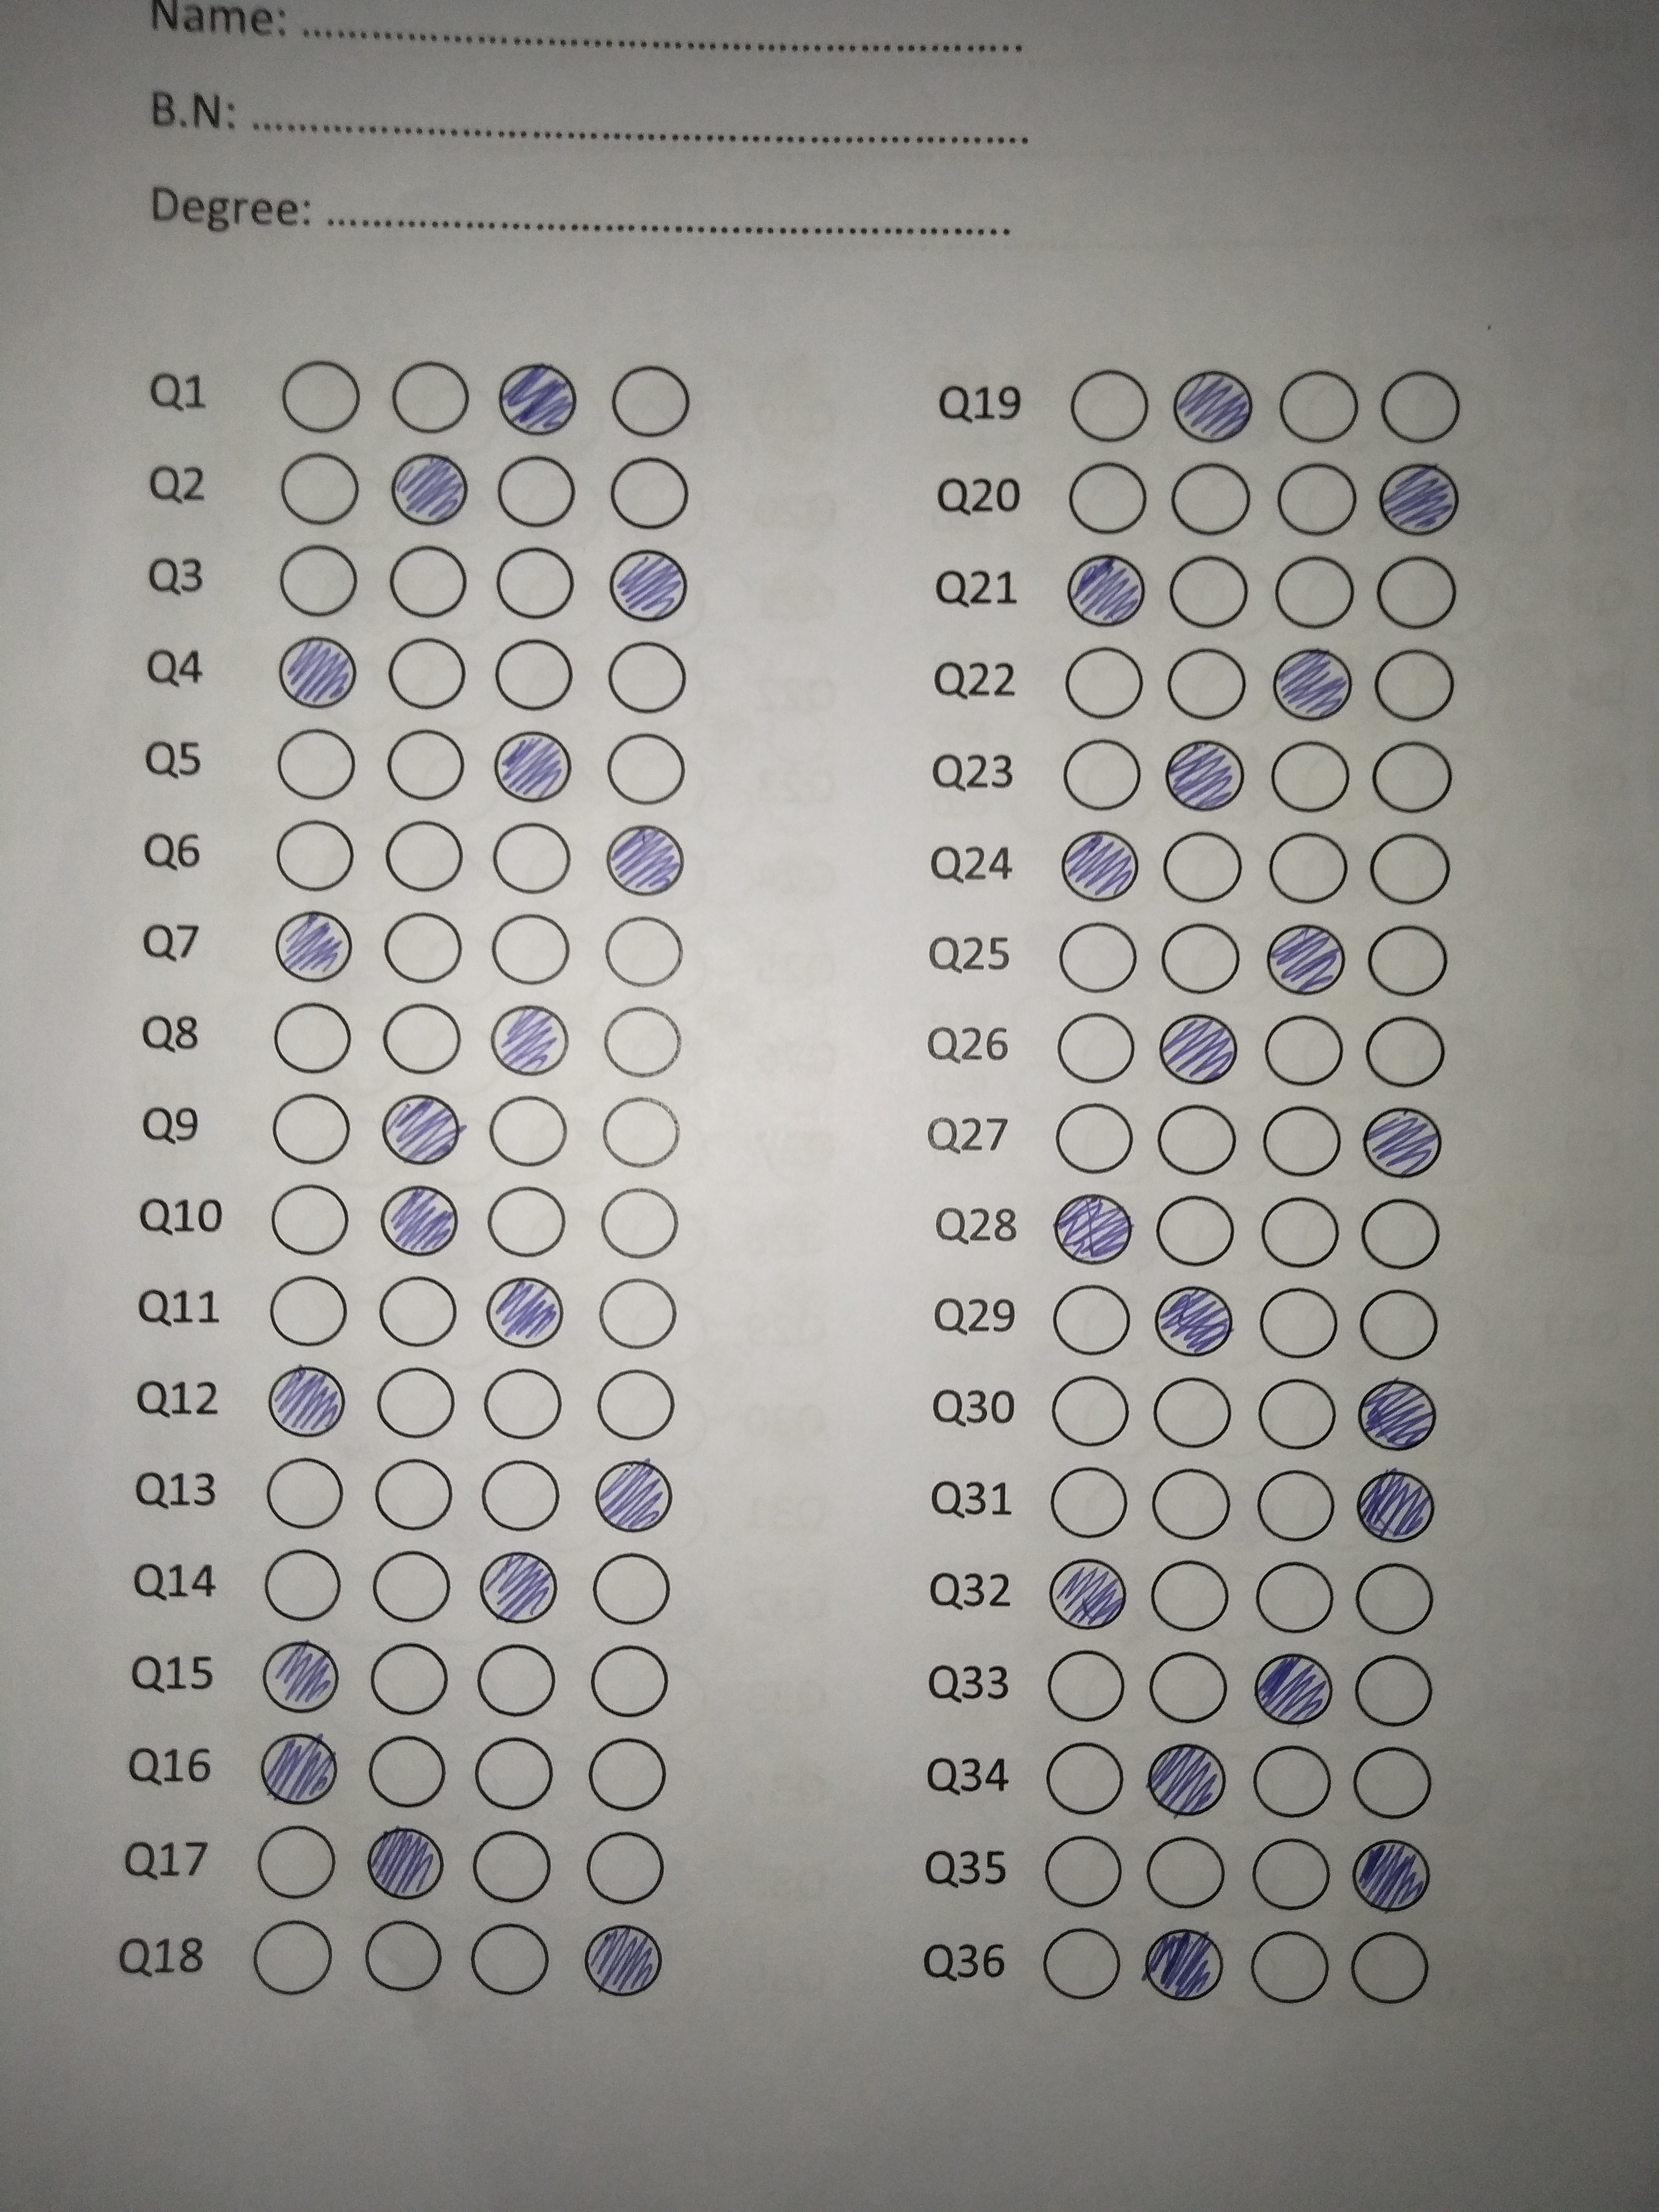not-c: (354, 1909, 458, 2013), (232, 1912, 349, 2005), (1028, 1921, 1141, 2013), (254, 998, 368, 1085), (1361, 549, 1464, 644), (599, 355, 704, 448), (1032, 1648, 1140, 1737), (1342, 1735, 1443, 1829), (481, 806, 584, 899), (592, 451, 704, 535), (352, 1723, 451, 1815), (1241, 1738, 1342, 1829), (261, 540, 364, 629), (1033, 1737, 1138, 1824), (1054, 643, 1159, 730), (369, 899, 465, 993), (1258, 1097, 1358, 1188), (261, 448, 371, 529), (1232, 1923, 1335, 2010), (1140, 1649, 1244, 1735), (1248, 1831, 1345, 1921), (598, 634, 697, 723), (1159, 552, 1260, 639), (1371, 644, 1466, 737), (1262, 554, 1358, 644), (1246, 1191, 1349, 1275), (586, 1635, 680, 1726), (368, 1360, 465, 1447), (580, 1737, 678, 1824), (1035, 1372, 1133, 1460), (1140, 1829, 1239, 1914), (1361, 923, 1460, 1008), (1159, 648, 1258, 733), (1253, 1014, 1361, 1092), (457, 1919, 558, 2003), (1361, 824, 1462, 907), (1058, 364, 1159, 448), (256, 1087, 359, 1169), (1054, 737, 1159, 817), (277, 354, 371, 442), (596, 998, 694, 1083), (483, 542, 584, 624), (235, 1824, 345, 1898), (253, 1454, 357, 1533), (1134, 1559, 1239, 1637), (1166, 456, 1260, 543), (1269, 455, 1363, 542), (598, 732, 697, 813), (1349, 1923, 1438, 2013), (483, 907, 575, 995), (1378, 361, 1466, 453), (1244, 1559, 1338, 1644), (378, 540, 474, 624), (486, 1089, 582, 1172), (465, 1642, 563, 1724), (1253, 730, 1351, 812), (362, 1278, 469, 1353), (469, 1735, 558, 1824), (1049, 1005, 1141, 1090), (1037, 1465, 1133, 1547), (382, 723, 469, 812), (261, 1543, 349, 1632), (267, 719, 357, 805), (1349, 1557, 1439, 1642), (488, 448, 580, 531), (596, 909, 688, 993), (586, 1547, 680, 1629), (483, 634, 575, 716), (1159, 826, 1251, 907), (1267, 369, 1364, 446), (594, 1359, 681, 1444), (469, 1822, 556, 1907), (1037, 1831, 1127, 1912), (1352, 1653, 1443, 1735), (592, 1273, 685, 1353), (380, 636, 474, 714), (267, 815, 361, 894), (1061, 458, 1155, 536), (368, 1460, 464, 1536), (1140, 1467, 1236, 1543), (1040, 1285, 1138, 1360), (1258, 831, 1358, 904), (375, 817, 471, 892), (387, 355, 472, 439), (1157, 927, 1256, 998), (366, 1547, 458, 1623), (594, 1097, 688, 1172), (1154, 1104, 1248, 1179), (1051, 923, 1148, 995), (1251, 1285, 1344, 1360), (582, 1825, 664, 1909), (1373, 738, 1460, 817), (596, 1186, 685, 1263), (254, 1177, 349, 1249), (474, 1190, 577, 1254), (1140, 1381, 1232, 1453), (364, 1641, 450, 1717), (1053, 1104, 1148, 1172), (1253, 1470, 1335, 1548), (1359, 1198, 1445, 1273), (383, 996, 462, 1076), (261, 1275, 349, 1346), (1251, 1379, 1335, 1451), (1366, 1021, 1450, 1090), (481, 1369, 563, 1439), (479, 1460, 559, 1529), (1148, 1198, 1236, 1261), (1359, 1285, 1439, 1350)
taken-c: (495, 359, 580, 441), (1049, 1186, 1134, 1268), (272, 904, 355, 986), (1349, 1836, 1434, 1916), (1269, 644, 1354, 725), (1060, 550, 1147, 629), (603, 819, 687, 899), (1046, 1552, 1129, 1632), (376, 1183, 462, 1261), (256, 1730, 342, 1808), (378, 1090, 465, 1167), (1375, 460, 1462, 536), (1169, 368, 1256, 444), (387, 448, 469, 528), (484, 1273, 566, 1353), (265, 1360, 347, 1440), (1145, 1738, 1227, 1818), (1152, 1282, 1236, 1360), (1162, 737, 1246, 815), (486, 1003, 572, 1080), (1354, 1468, 1439, 1545), (1354, 1378, 1439, 1454), (606, 543, 687, 624), (594, 1454, 674, 1534), (1145, 1925, 1227, 2003), (476, 1550, 559, 1627), (1361, 1104, 1445, 1181), (1265, 921, 1349, 998), (279, 632, 359, 711), (366, 1822, 446, 1900), (1157, 1008, 1237, 1087), (261, 1639, 343, 1716), (1060, 826, 1140, 902), (491, 728, 573, 803), (584, 1925, 667, 1998), (1249, 1655, 1335, 1726)
